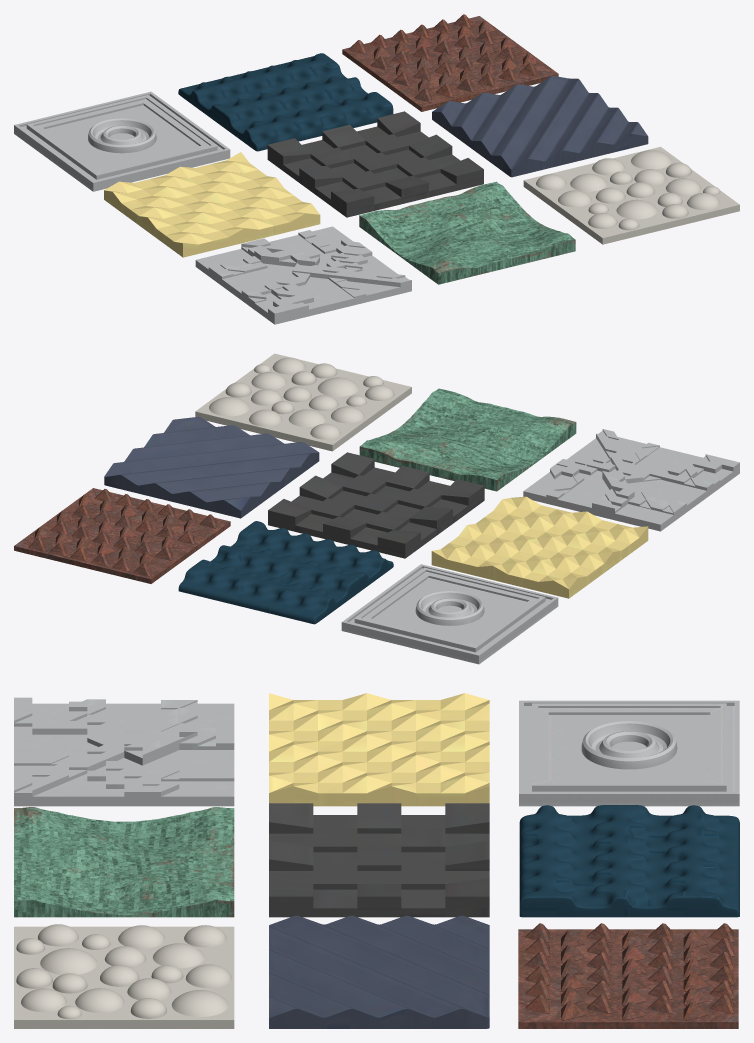
File: material_texture_grid.glb
The picture shows the model from 3 angles, top to bottom: view 1: azimuth 30°, elevation 25°; view 2: azimuth 150°, elevation 25°; view 3: azimuth 270°, elevation 25°; orthographic projection. The views are drawn at different scales.
Visible parts, largest first — view 1: Plane, Plane.002, Plane.003, Plane.001, Circle, Plane.004, Sphere.020, Plane.005, GD_mesh.001; view 2: Plane, Plane.002, Plane.003, Plane.005, Circle, Plane.004, Plane.001, Sphere.020, GD_mesh.001; view 3: Plane, Plane.002, Plane.003, Plane.005, Circle, Plane.004, Plane.001, Sphere.020, GD_mesh.001.
Boxes of the visible parts, left/top/right/bottom form: Plane: left=267, top=111, right=483, bottom=217; Plane.002: left=432, top=76, right=648, bottom=177; Plane.003: left=104, top=152, right=320, bottom=257; Plane.001: left=359, top=181, right=575, bottom=284; Circle: left=14, top=91, right=230, bottom=191; Plane.004: left=195, top=226, right=411, bottom=324; Sphere.020: left=523, top=146, right=739, bottom=244; Plane.005: left=178, top=53, right=393, bottom=151; GD_mesh.001: left=342, top=14, right=558, bottom=111; Plane: left=268, top=452, right=484, bottom=558; Plane.002: left=104, top=416, right=319, bottom=518; Plane.003: left=431, top=496, right=648, bottom=598; Plane.005: left=178, top=521, right=393, bottom=624; Circle: left=341, top=564, right=558, bottom=664; Plane.004: left=523, top=429, right=739, bottom=531; Plane.001: left=359, top=388, right=576, bottom=491; Sphere.020: left=195, top=353, right=411, bottom=451; GD_mesh.001: left=14, top=488, right=230, bottom=583; Plane: left=269, top=803, right=489, bottom=917; Plane.002: left=269, top=915, right=489, bottom=1028; Plane.003: left=269, top=693, right=489, bottom=806; Plane.005: left=519, top=805, right=739, bottom=917; Circle: left=519, top=700, right=739, bottom=806; Plane.004: left=14, top=697, right=234, bottom=806; Plane.001: left=14, top=807, right=234, bottom=917; Sphere.020: left=14, top=924, right=234, bottom=1028; GD_mesh.001: left=518, top=923, right=738, bottom=1028.
Bounding box in the file's own units: 1.7 × 0.052 × 1.65.
Materials: 1 (1 with a texture image).
